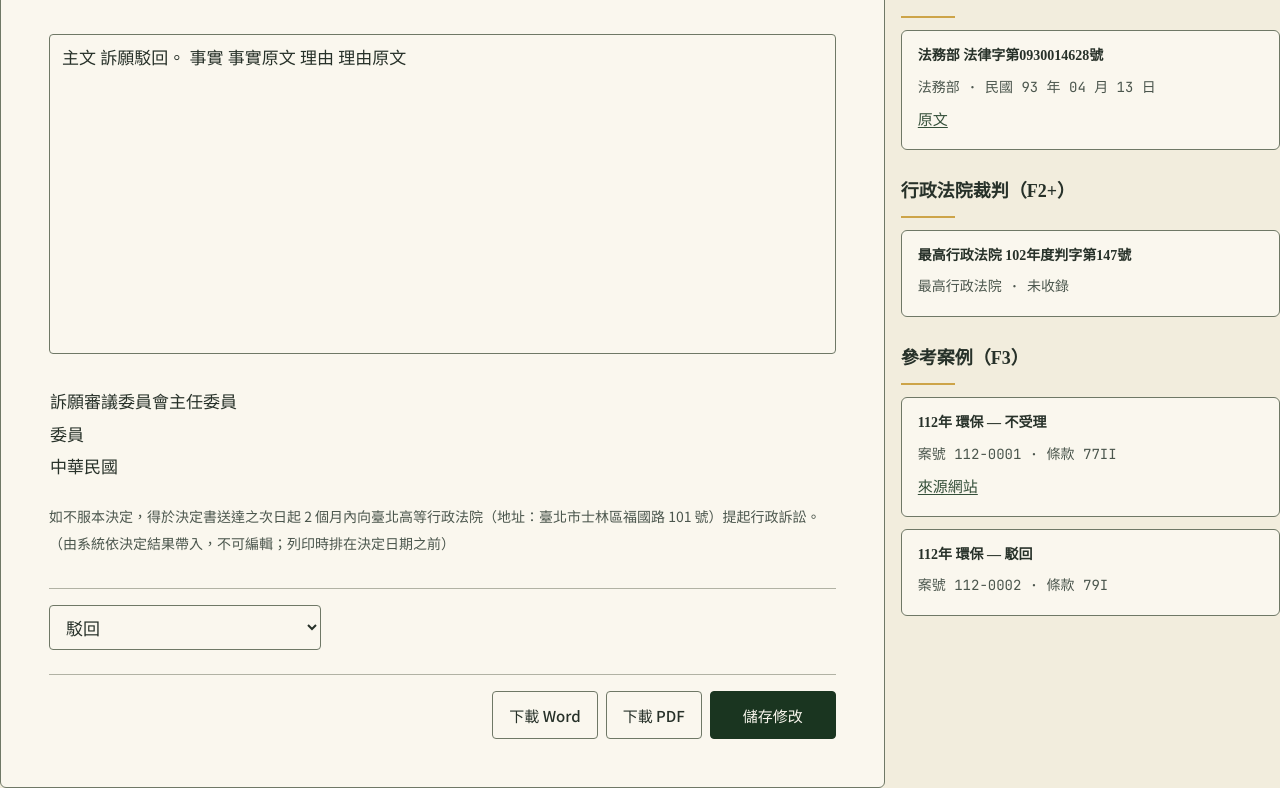
Test: 決定結果修改 › 未儲存的結果修改擋住下載
(page scrolled)
Select "撤銷另處" in the dropdown named "結果" at (185, 628), box x1=49 y1=606 x2=321 y2=650
(page scrolled)
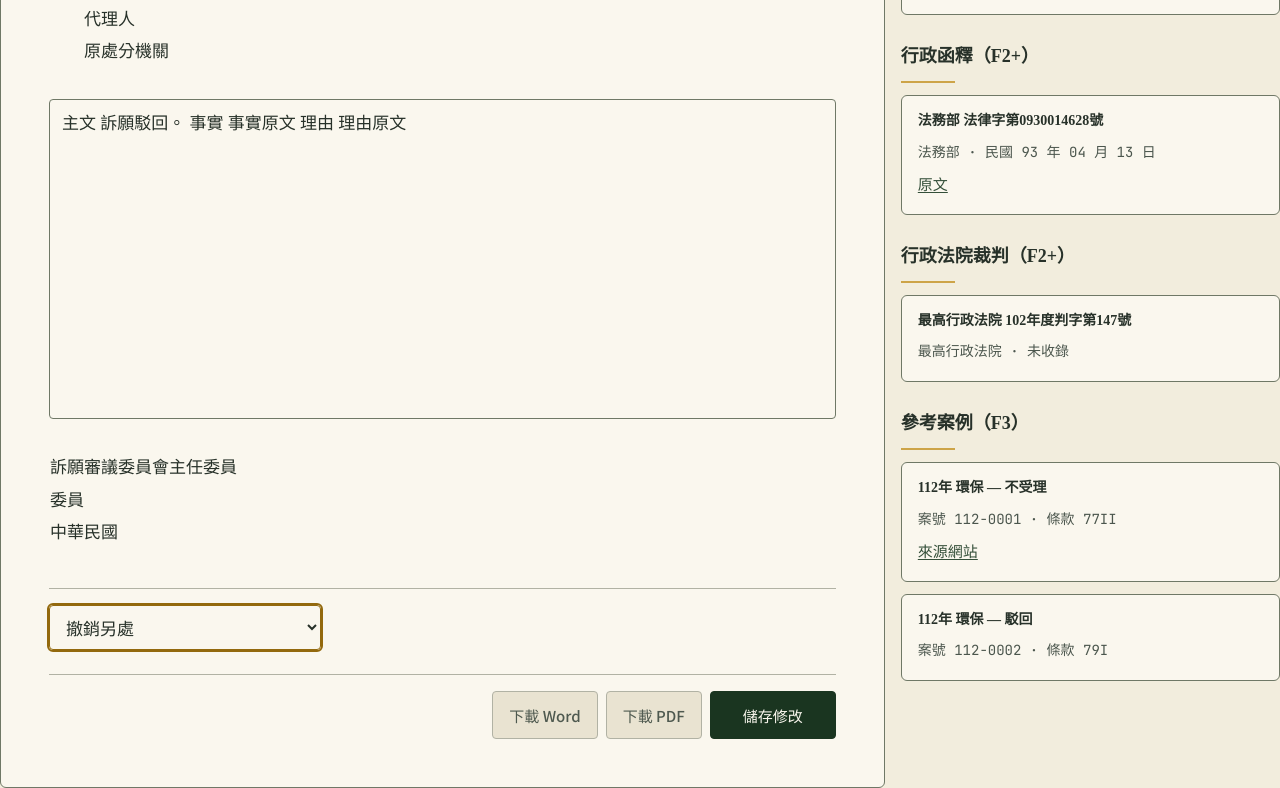
Click the button "下載 PDF" at (654, 715), box x1=606 y1=691 x2=702 y2=739
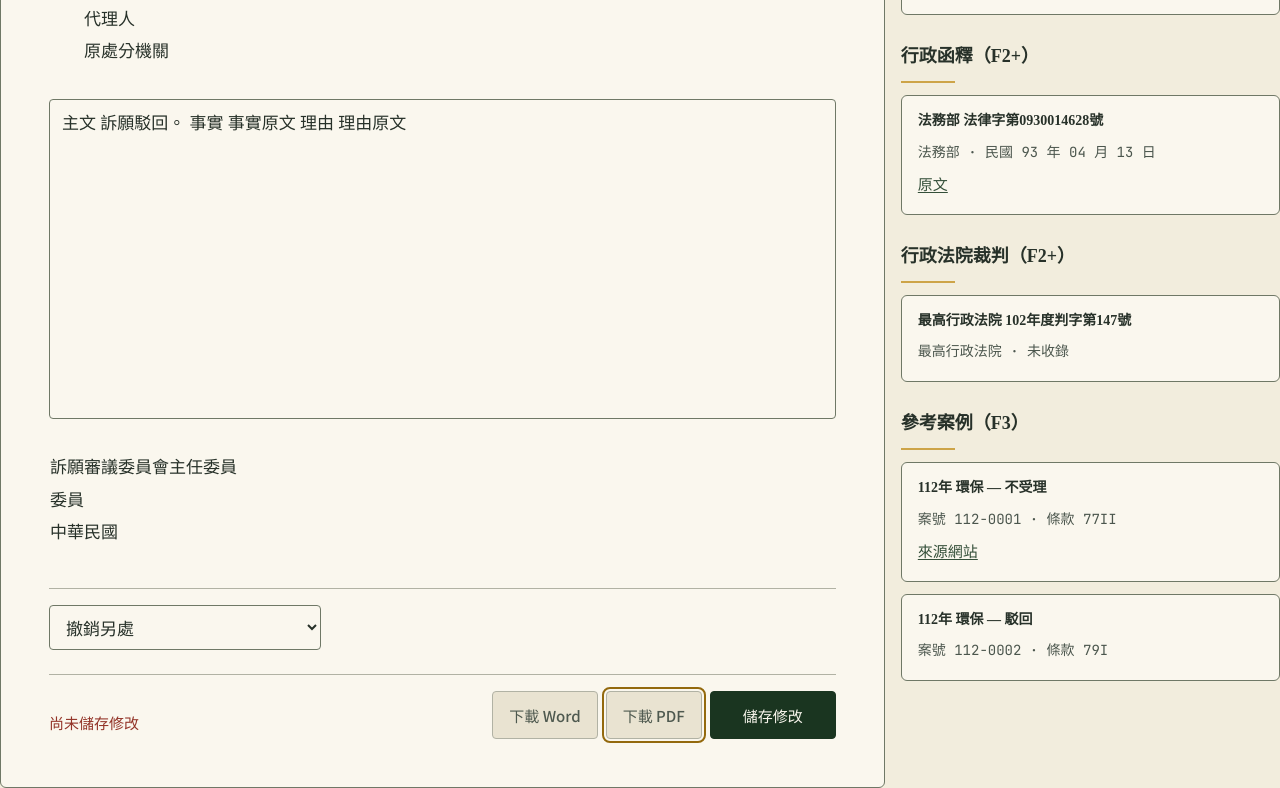
Result: the text "尚未儲存修改" is shown at x1=49 y1=709 x2=139 y2=738
